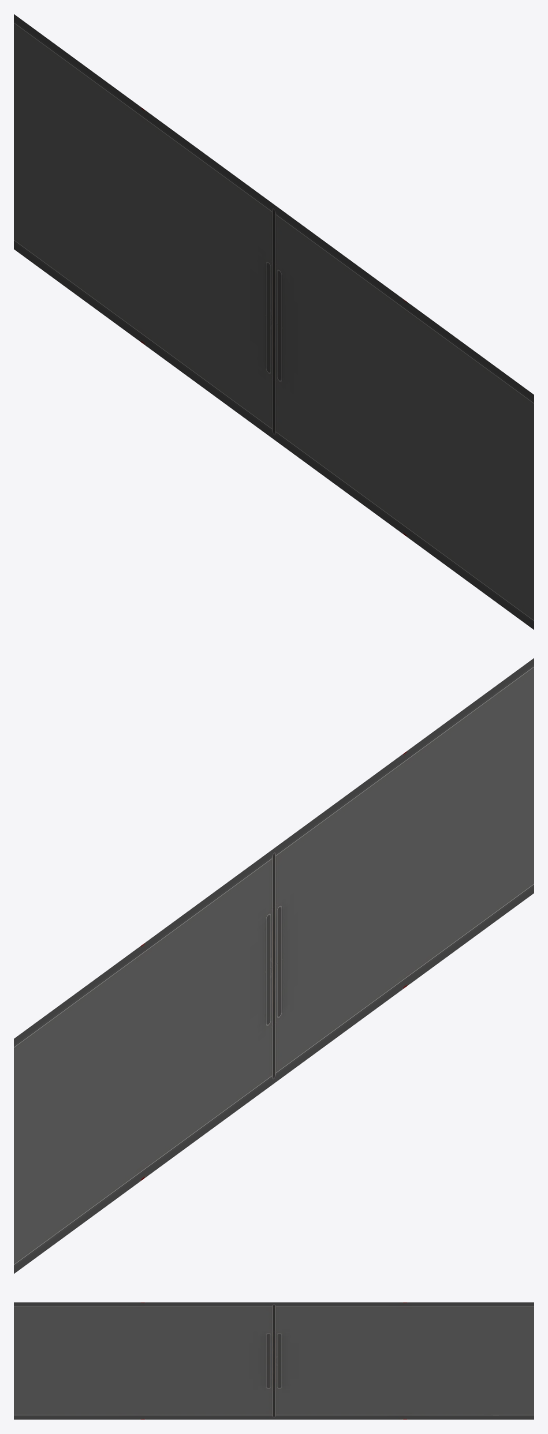
The model's file is ShortWall_MetalPlates_Straight.glb.
The picture shows the model from 3 angles, top to bottom: view 1: azimuth 30°, elevation 25°; view 2: azimuth 150°, elevation 25°; view 3: azimuth 270°, elevation 25°; orthographic projection. The views are drawn at different scales.
Parts seen in each view (by area): view 1: ShortWall_MetalPlates_Straight; view 2: ShortWall_MetalPlates_Straight; view 3: ShortWall_MetalPlates_Straight.
Boxes of the visible parts, x1,y1,x2,y2 form: ShortWall_MetalPlates_Straight: (14,14,533,629); ShortWall_MetalPlates_Straight: (14,658,533,1273); ShortWall_MetalPlates_Straight: (14,1302,533,1419).
Bounding box in the file's own units: 0 × 0.9981 × 4.
Materials: 1 (1 with a texture image).
